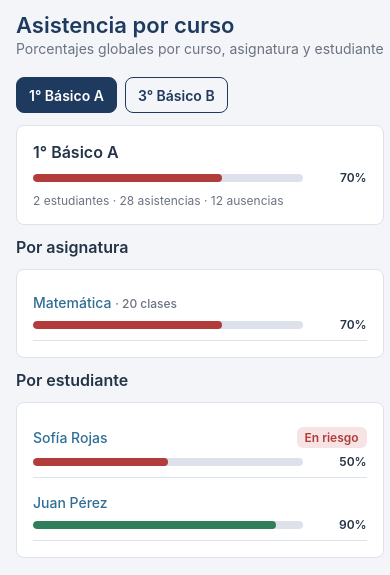
Test: CourseAttendanceScreen › cambia de curso
Click the text "3° Básico B". click: (176, 95)
box: 138,86 -> 215,104
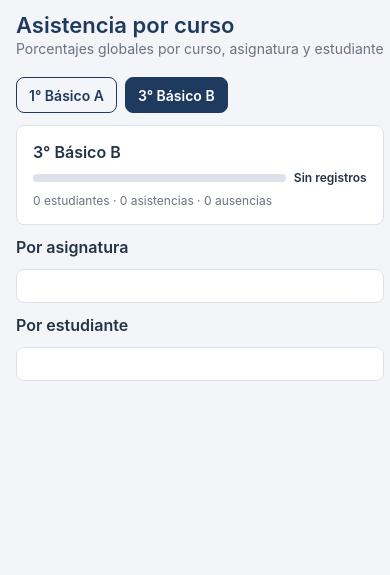
Result: the text "0 estudiantes · 0 asistencias · 0 ausencias" is shown at 33,193 -> 272,208
Result: the text "Sin registros" is shown at 294,170 -> 367,185
